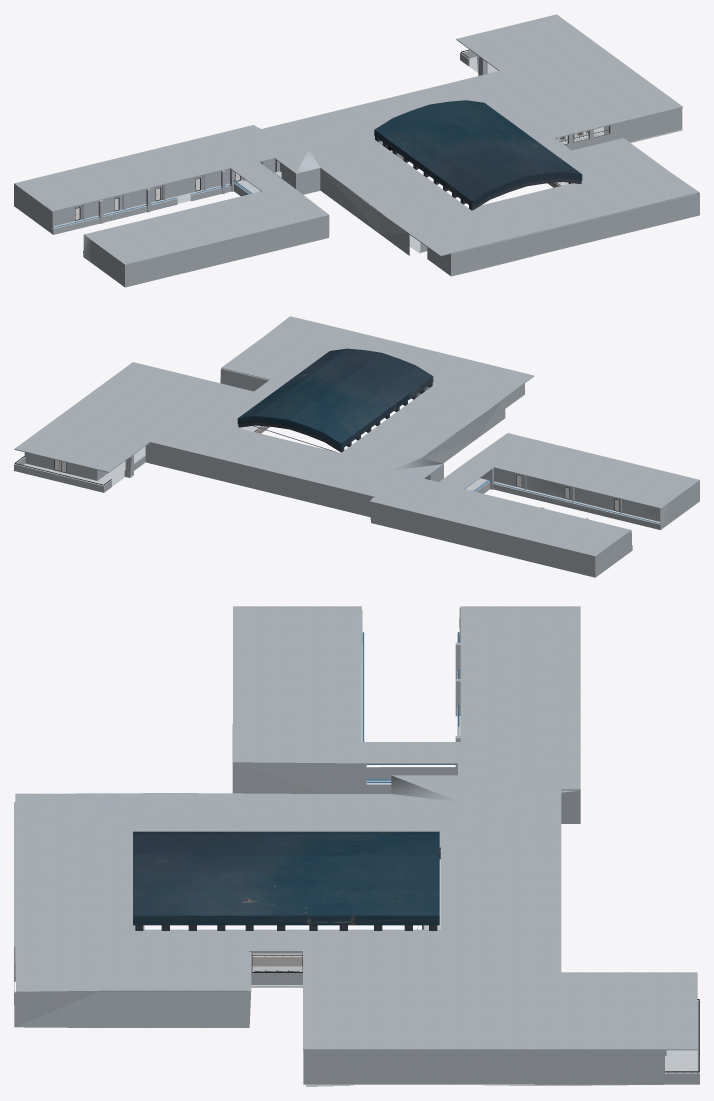
The model's file is FACU-P2OP.glb.
3 views of the same model, one above another, from view 1: azimuth 30°, elevation 25°; view 2: azimuth 150°, elevation 25°; view 3: azimuth 270°, elevation 25° (orthographic). The views are drawn at different scales.
Parts seen in each view (by area): view 1: Paredes_P2, DomoA_Principal, Piso_P2.001, Ventanas_Puertas_P2, DomoB_Principal; view 2: Paredes_P2, DomoA_Principal, Piso_P2.001, DomoB_Principal, Ventanas_Puertas_P2; view 3: Paredes_P2, DomoA_Principal, Piso_P2.001, Ventanas_Puertas_P2.
Boxes of the visible parts, <box> form: Paredes_P2: <box>14,14,699,287</box>; DomoA_Principal: <box>374,100,582,207</box>; Piso_P2.001: <box>54,56,682,276</box>; Ventanas_Puertas_P2: <box>75,49,609,220</box>; DomoB_Principal: <box>375,136,581,210</box>; Paredes_P2: <box>14,316,699,577</box>; DomoA_Principal: <box>237,348,433,449</box>; Piso_P2.001: <box>23,425,660,530</box>; DomoB_Principal: <box>238,383,432,452</box>; Ventanas_Puertas_P2: <box>14,456,619,511</box>; Paredes_P2: <box>14,606,699,1084</box>; DomoA_Principal: <box>133,831,440,925</box>; Piso_P2.001: <box>251,643,697,1086</box>; Ventanas_Puertas_P2: <box>252,953,699,1072</box>.
Bounding box in the file's own units: 0.9557 × 0.0743 × 0.6254.
Materials: 15 (15 with a texture image).
